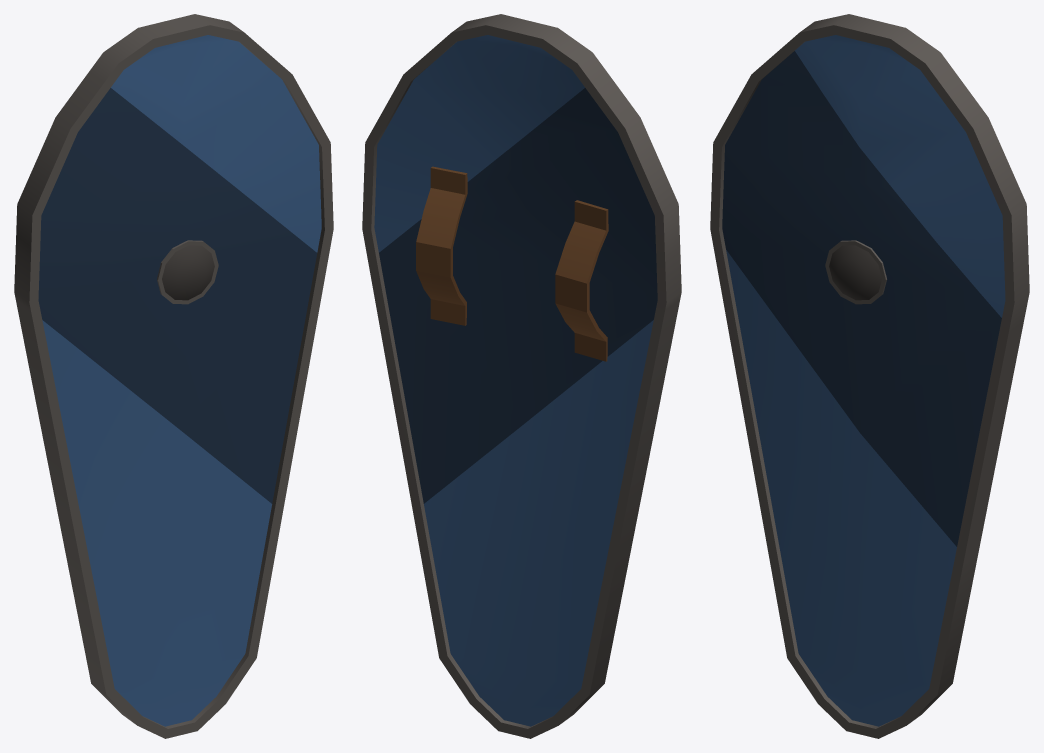
File: Kite Shield_Blue.glb
3 renders of one model, left to right at view 1: azimuth 30°, elevation 25°; view 2: azimuth 150°, elevation 25°; view 3: azimuth 330°, elevation 25°, orthographic.
Visible parts, largest first — view 1: Kite Shield_Blue; view 2: Kite Shield_Blue; view 3: Kite Shield_Blue.
Boxes of the visible parts, x1,y1,x2,y2 form: Kite Shield_Blue: (14, 14, 333, 738); Kite Shield_Blue: (362, 14, 681, 738); Kite Shield_Blue: (710, 14, 1029, 738).
Size of the model in its own units: 0.4323 by 0.9542 by 0.094.
1 material, 1 textured.
